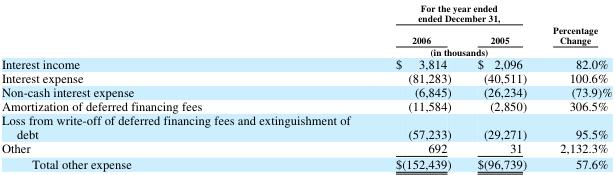table: (0, 1, 611, 171)
table column: (0, 1, 372, 171), (372, 1, 463, 171), (463, 1, 539, 171), (539, 1, 611, 171)
table column header: (0, 1, 611, 56)
table row: (0, 1, 611, 29), (0, 112, 611, 140), (0, 29, 611, 45), (0, 155, 611, 171), (0, 140, 611, 155), (0, 56, 611, 70), (0, 70, 611, 84), (0, 84, 611, 98), (0, 98, 611, 112), (0, 45, 611, 56)
table spanning cell: (372, 1, 539, 29), (539, 1, 611, 56), (372, 45, 539, 56)
